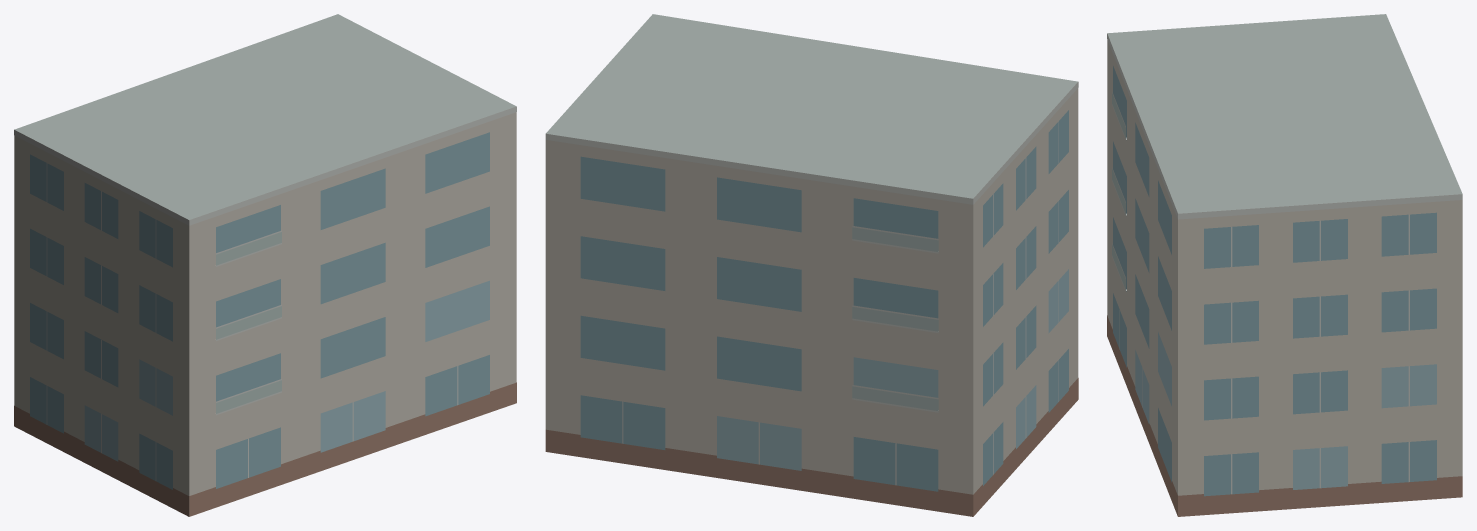
Rendered from survey-upis-32945697.glb.
3 renders of one model, left to right at view 1: azimuth 30°, elevation 25°; view 2: azimuth 150°, elevation 25°; view 3: azimuth 270°, elevation 25°, orthographic. The views are drawn at different scales.
Visible parts, largest first — view 1: survey-upis-32945697.tmp; view 2: survey-upis-32945697.tmp; view 3: survey-upis-32945697.tmp.
Boxes of the visible parts, x1,y1,x2,y2 form: survey-upis-32945697.tmp: [14, 14, 516, 516]; survey-upis-32945697.tmp: [545, 14, 1078, 516]; survey-upis-32945697.tmp: [1107, 14, 1462, 516].
Size of the model in its own units: 18.1 by 12.8 by 13.62.
